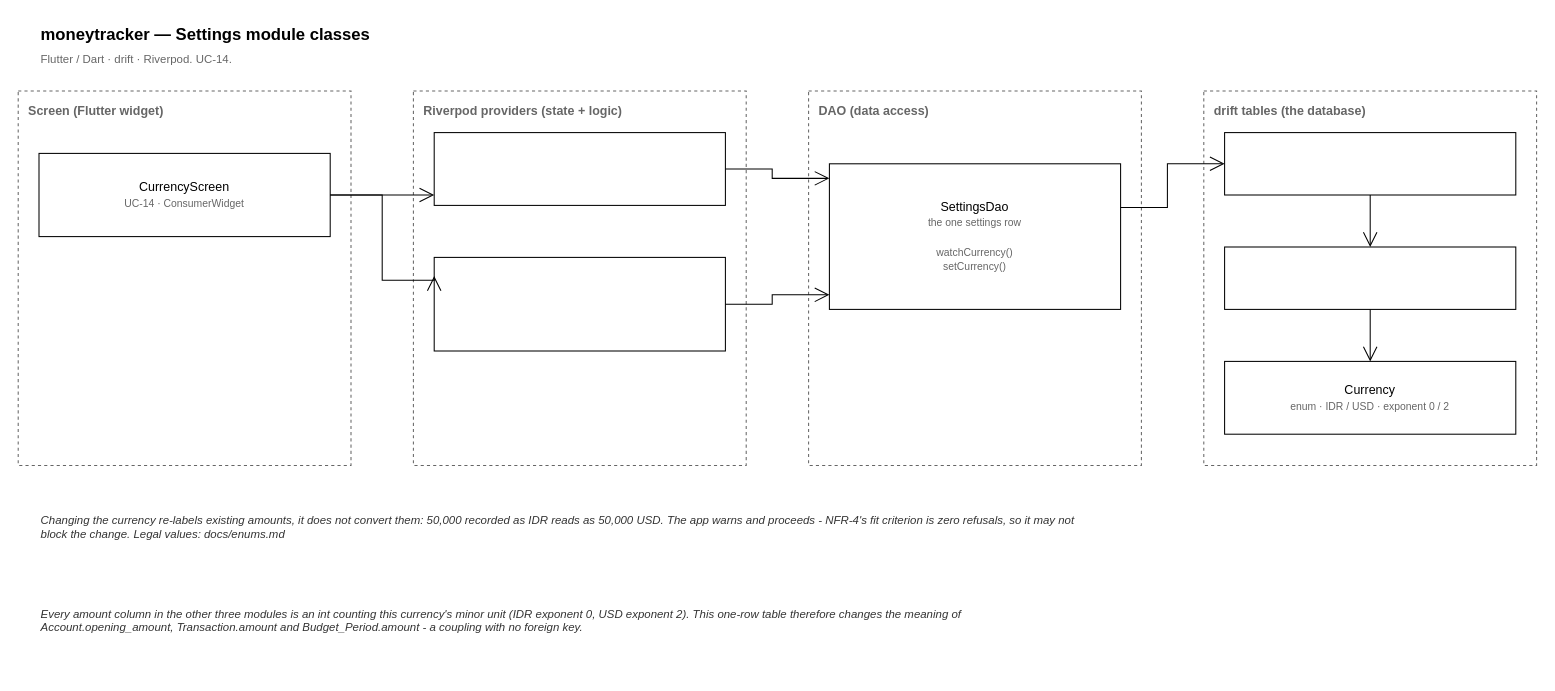
The diagram is 1555 pixels wide and 691 high, and some of its shapes have lost their labels. Each missing label, with the box of its shape:
AppDatabase shared by all four modules: (1224, 132, 1516, 195)
currencyProvider StreamProvider · the current currency: (433, 132, 725, 205)
Settings drift table declaration · single row: (1224, 246, 1516, 309)
SettingsNotifier Notifier, exposed as settingsProvider setCurrency(): (433, 256, 725, 351)
